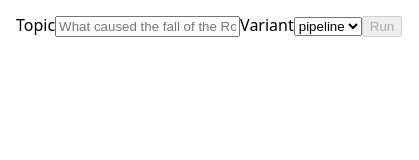
RunForm › shows an error message if starting the run fails
The width and height of the screenshot is (419, 160).
Expected: the dropdown shows "pipeline", [294, 17, 362, 36]
Type "a topic" into the field labelled "Topic" at (148, 26), box [55, 16, 240, 37]
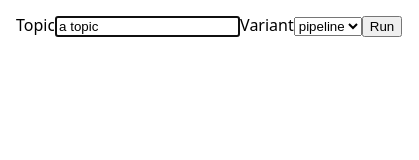
Click the button "Run" at (382, 26), box [362, 16, 402, 37]
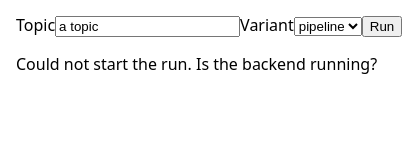
Now the message shows "Could not start the run", box [16, 53, 377, 75]
